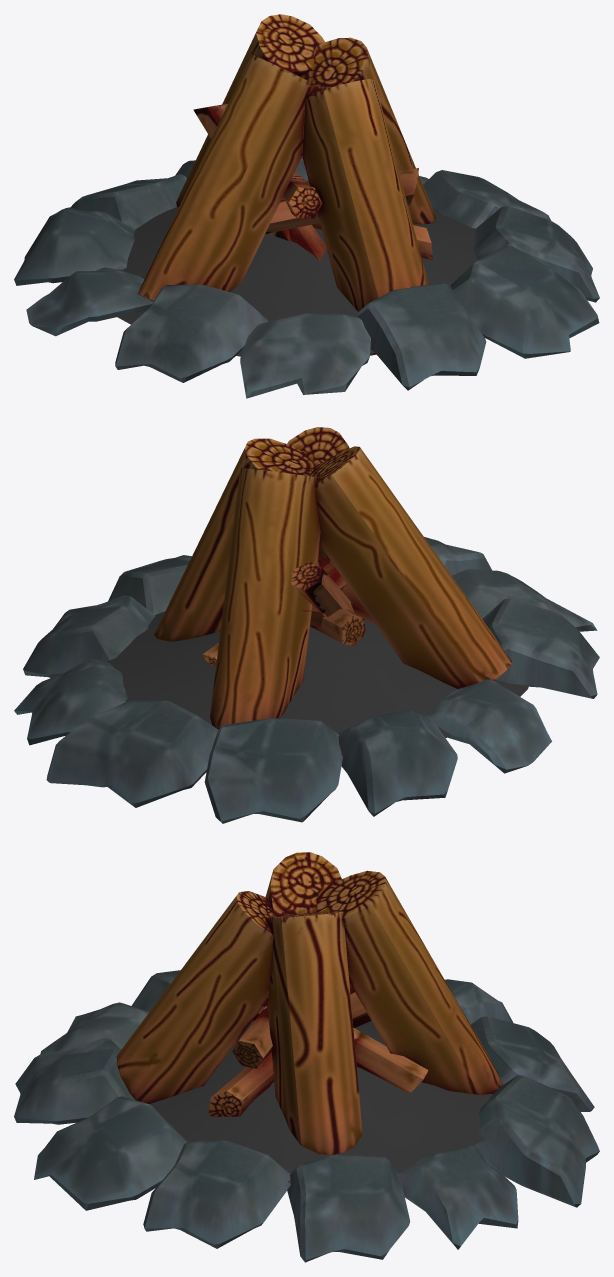
File: bonfire.gltf
The picture shows the model from 3 angles, top to bottom: view 1: azimuth 30°, elevation 25°; view 2: azimuth 150°, elevation 25°; view 3: azimuth 270°, elevation 25°; orthographic projection.
Visible parts, largest first — view 1: palo1_4; view 2: palo1_4; view 3: palo1_4.
Boxes of the visible parts, <box> form: palo1_4: <box>14,14,599,398</box>; palo1_4: <box>14,427,599,823</box>; palo1_4: <box>14,852,599,1262</box>.
Bounding box in the file's own units: 6.42 × 3.29 × 6.42.
Materials: 1 (1 with a texture image).
